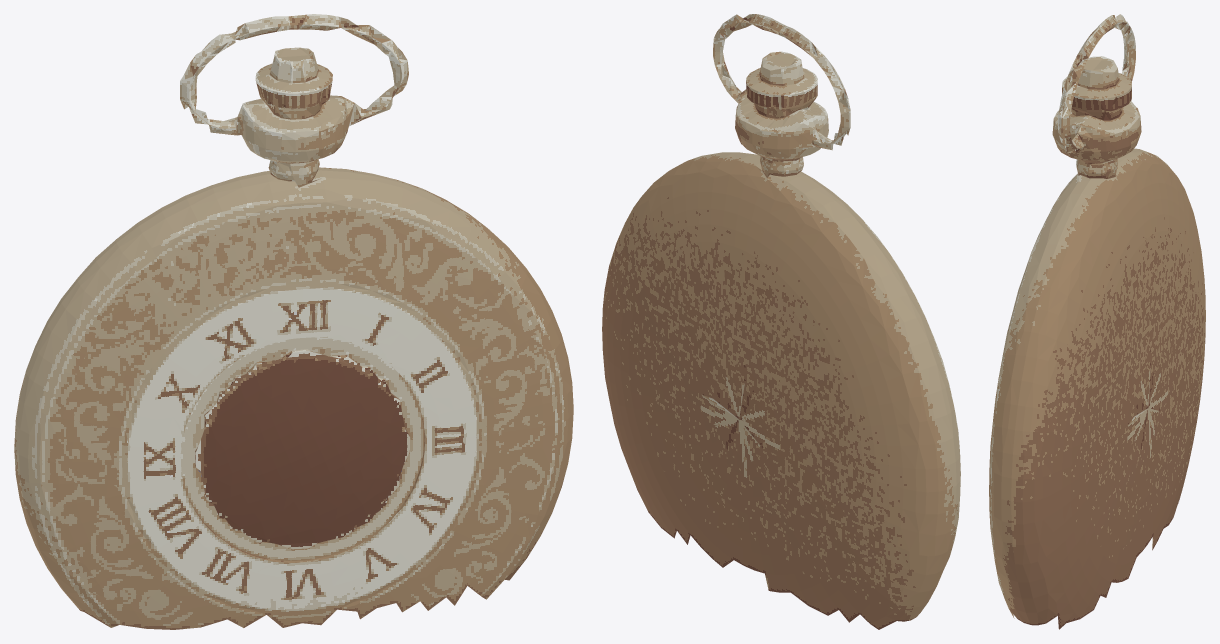
Rendered from golden.glb.
3 renders of one model, left to right at view 1: azimuth 30°, elevation 25°; view 2: azimuth 150°, elevation 25°; view 3: azimuth 270°, elevation 25°, orthographic. The views are drawn at different scales.
Visible parts, largest first — view 1: model_m; view 2: model_m; view 3: model_m.
Boxes of the visible parts, <box> form: model_m: <box>14,14,573,629</box>; model_m: <box>602,14,960,629</box>; model_m: <box>989,14,1205,629</box>.
Bounding box in the file's own units: 33.4 × 40.62 × 15.01.
1 material, 1 textured.
